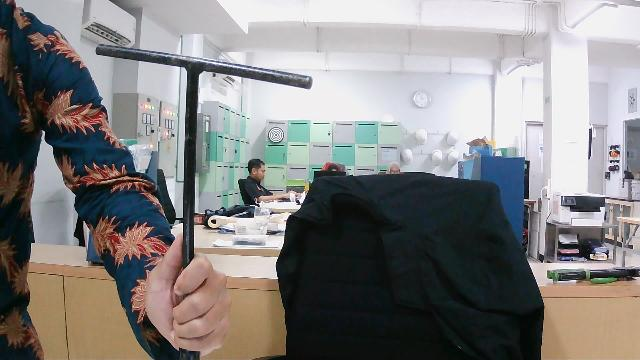kunci_t: (85, 33, 321, 360)
